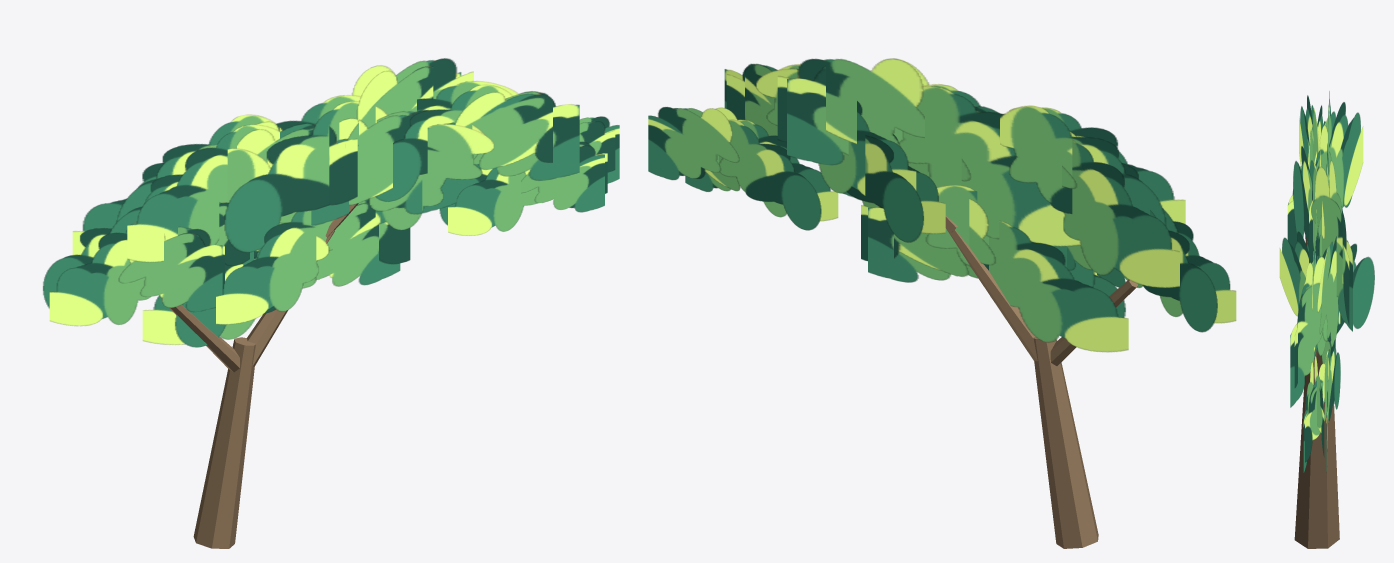
File: TREE_COASTAL_WIND_001_LOD_GAMEPLAY.glb
3 renders of one model, left to right at view 1: azimuth 30°, elevation 25°; view 2: azimuth 150°, elevation 25°; view 3: azimuth 270°, elevation 25°, orthographic. The views are drawn at different scales.
Parts seen in each view (by area): view 1: GG_TREE_COASTAL_WIND_001_MID_02_01, GG_TREE_COASTAL_WIND_001_MID_01_02, GG_TREE_COASTAL_WIND_001_MID_05_02, GG_TREE_COASTAL_WIND_001_BRANCH_00, GG_TREE_COASTAL_WIND_001_MID_00_01, GG_TREE_COASTAL_WIND_001_MID_03_01, GG_TREE_COASTAL_WIND_001_MID_00_00, GG_TREE_COASTAL_WIND_001_MID_03_00, GG_TREE_COASTAL_WIND_001_MID_04_01, GG_TREE_COASTAL_WIND_001_MID_05_01, GG_TREE_COASTAL_WIND_001_MID_03_02, GG_TREE_COASTAL_WIND_001_MID_02_00 (+20 smaller); view 2: GG_TREE_COASTAL_WIND_001_REAR_02_01, GG_TREE_COASTAL_WIND_001_REAR_05_00, GG_TREE_COASTAL_WIND_001_REAR_01_00, GG_TREE_COASTAL_WIND_001_REAR_02_02, GG_TREE_COASTAL_WIND_001_REAR_01_02, GG_TREE_COASTAL_WIND_001_BRANCH_00, GG_TREE_COASTAL_WIND_001_REAR_04_02, GG_TREE_COASTAL_WIND_001_REAR_04_01, GG_TREE_COASTAL_WIND_001_MID_02_02, GG_TREE_COASTAL_WIND_001_REAR_03_00, GG_TREE_COASTAL_WIND_001_REAR_03_02, GG_TREE_COASTAL_WIND_001_REAR_05_01 (+11 smaller); view 3: GG_TREE_COASTAL_WIND_001_BRANCH_00, GG_TREE_COASTAL_WIND_001_REAR_01_00, GG_TREE_COASTAL_WIND_001_REAR_03_01, GG_TREE_COASTAL_WIND_001_MID_02_02, GG_TREE_COASTAL_WIND_001_MID_05_02, GG_TREE_COASTAL_WIND_001_MID_02_01, GG_TREE_COASTAL_WIND_001_REAR_03_00, GG_TREE_COASTAL_WIND_001_REAR_03_02, GG_TREE_COASTAL_WIND_001_REAR_04_01, GG_TREE_COASTAL_WIND_001_MID_01_02, GG_TREE_COASTAL_WIND_001_REAR_02_02, GG_TREE_COASTAL_WIND_001_REAR_04_00 (+9 smaller).
Boxes of the visible parts, box(x1,y1,x2,y2) form: GG_TREE_COASTAL_WIND_001_MID_02_01: box(224, 101, 387, 252); GG_TREE_COASTAL_WIND_001_MID_01_02: box(127, 124, 279, 262); GG_TREE_COASTAL_WIND_001_MID_05_02: box(216, 210, 332, 324); GG_TREE_COASTAL_WIND_001_BRANCH_00: box(193, 337, 255, 548); GG_TREE_COASTAL_WIND_001_MID_00_01: box(49, 222, 150, 326); GG_TREE_COASTAL_WIND_001_MID_03_01: box(455, 92, 555, 169); GG_TREE_COASTAL_WIND_001_MID_00_00: box(118, 233, 222, 312); GG_TREE_COASTAL_WIND_001_MID_03_00: box(375, 124, 494, 230); GG_TREE_COASTAL_WIND_001_MID_04_01: box(448, 167, 538, 235); GG_TREE_COASTAL_WIND_001_MID_05_01: box(315, 203, 400, 286); GG_TREE_COASTAL_WIND_001_MID_03_02: box(375, 84, 512, 201); GG_TREE_COASTAL_WIND_001_MID_02_00: box(339, 114, 413, 205); GG_TREE_COASTAL_WIND_001_REAR_02_01: box(899, 86, 1080, 246); GG_TREE_COASTAL_WIND_001_REAR_05_00: box(965, 220, 1128, 352); GG_TREE_COASTAL_WIND_001_REAR_01_00: box(1063, 139, 1179, 287); GG_TREE_COASTAL_WIND_001_REAR_02_02: box(777, 58, 924, 146); GG_TREE_COASTAL_WIND_001_REAR_01_02: box(1000, 105, 1166, 226); GG_TREE_COASTAL_WIND_001_BRANCH_00: box(1033, 336, 1098, 548); GG_TREE_COASTAL_WIND_001_REAR_04_02: box(648, 107, 739, 180); GG_TREE_COASTAL_WIND_001_REAR_04_01: box(719, 119, 821, 230); GG_TREE_COASTAL_WIND_001_MID_02_02: box(787, 58, 928, 165); GG_TREE_COASTAL_WIND_001_REAR_03_00: box(847, 135, 923, 242); GG_TREE_COASTAL_WIND_001_REAR_03_02: box(756, 69, 916, 195); GG_TREE_COASTAL_WIND_001_REAR_05_01: box(861, 199, 995, 276); GG_TREE_COASTAL_WIND_001_BRANCH_00: box(1294, 373, 1339, 548); GG_TREE_COASTAL_WIND_001_REAR_01_00: box(1314, 102, 1363, 207); GG_TREE_COASTAL_WIND_001_REAR_03_01: box(1290, 256, 1324, 407); GG_TREE_COASTAL_WIND_001_MID_02_02: box(1311, 166, 1352, 331); GG_TREE_COASTAL_WIND_001_MID_05_02: box(1279, 231, 1308, 316); GG_TREE_COASTAL_WIND_001_MID_02_01: box(1293, 146, 1324, 260); GG_TREE_COASTAL_WIND_001_REAR_03_00: box(1311, 243, 1374, 341); GG_TREE_COASTAL_WIND_001_REAR_03_02: box(1317, 236, 1348, 346); GG_TREE_COASTAL_WIND_001_REAR_04_01: box(1322, 339, 1340, 420); GG_TREE_COASTAL_WIND_001_MID_01_02: box(1299, 95, 1321, 167); GG_TREE_COASTAL_WIND_001_REAR_02_02: box(1329, 160, 1349, 324); GG_TREE_COASTAL_WIND_001_REAR_04_00: box(1305, 363, 1324, 462).
Bounding box in the file's own units: 7.51 × 5.55 × 1.08.
Materials: 2 (1 with a texture image).
